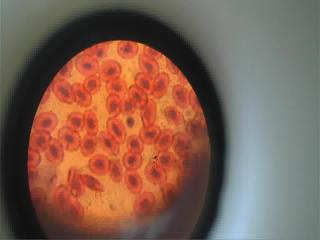cell: (98, 129, 120, 154), (59, 127, 82, 149), (106, 114, 127, 136), (162, 104, 185, 124), (54, 79, 74, 102), (106, 78, 132, 95), (32, 112, 58, 129), (135, 71, 154, 94), (77, 56, 97, 76), (142, 54, 160, 76), (56, 185, 70, 213), (84, 108, 100, 132), (119, 38, 139, 57), (72, 84, 91, 104), (124, 172, 144, 191), (147, 163, 167, 182), (101, 58, 119, 79), (30, 130, 48, 151), (175, 131, 193, 152), (132, 194, 154, 211), (48, 139, 62, 165), (156, 150, 175, 169), (174, 84, 192, 104), (88, 156, 108, 174), (125, 150, 143, 169), (144, 98, 158, 122), (132, 85, 150, 103), (80, 134, 98, 152), (104, 95, 120, 113), (84, 76, 102, 92), (158, 129, 172, 149), (156, 77, 168, 99), (67, 113, 83, 128), (129, 136, 144, 152), (142, 126, 158, 140), (111, 164, 124, 181)
